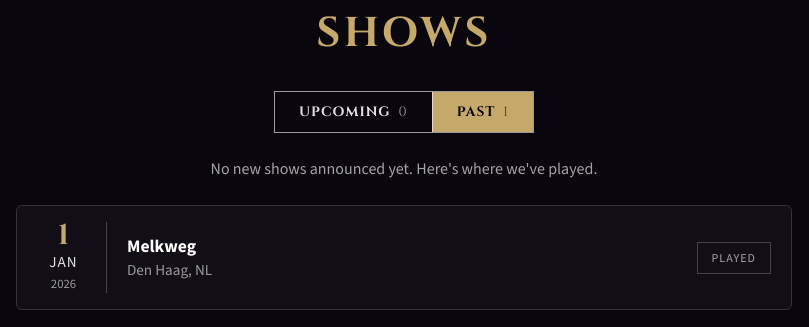
ShowsView › shows played shows automatically when nothing is planned, and can switch back
Expected: the text "Melkweg" is shown, [127,234,196,258]
Expected: the text "Played" is shown, [697,242,771,274]
Step 1. Click the button "Upcoming 0" → (353, 112), box [275,92,432,132]
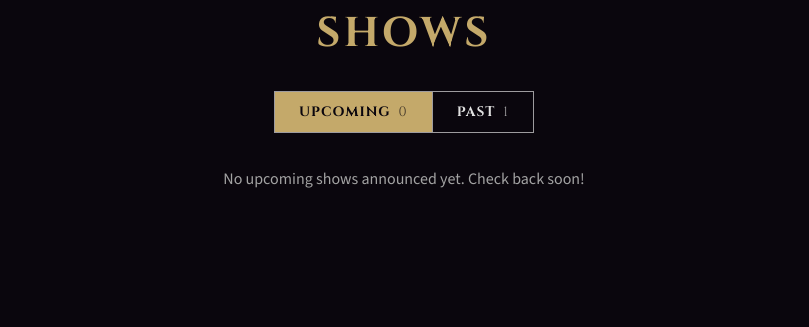
Result: the text "No upcoming shows announced yet. Check back soon!" is shown at [223,168,585,189]
Result: the text "Melkweg" is gone
